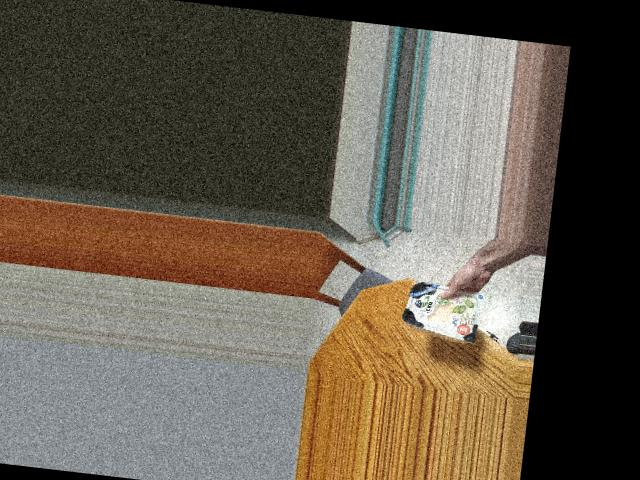cheese: (406, 271, 474, 340)
